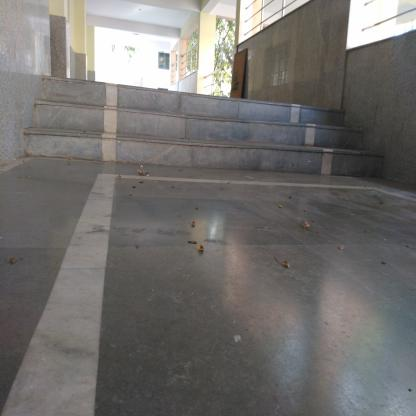stairs: (51, 99, 333, 174)
